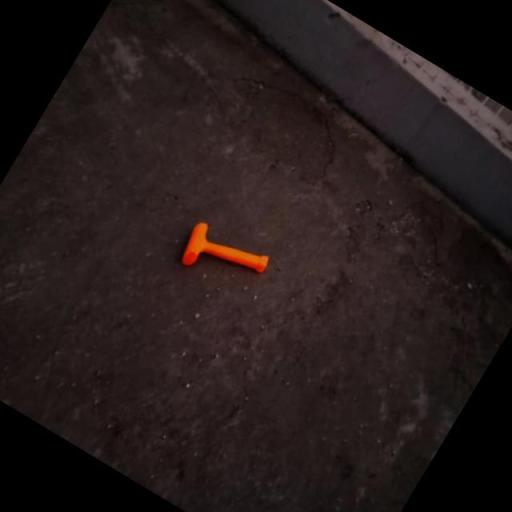mallet: (174, 216, 272, 302)
